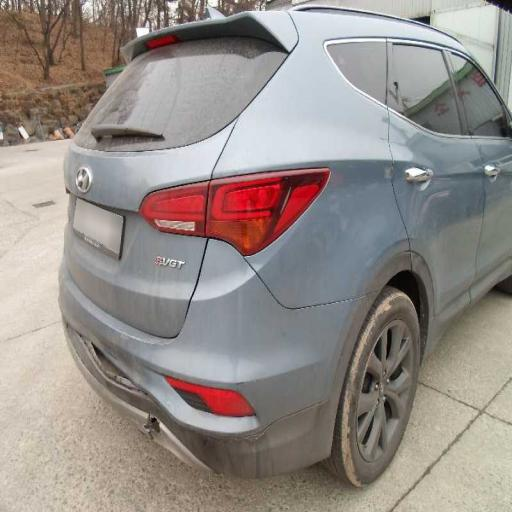scratch: (75, 104, 410, 382)
